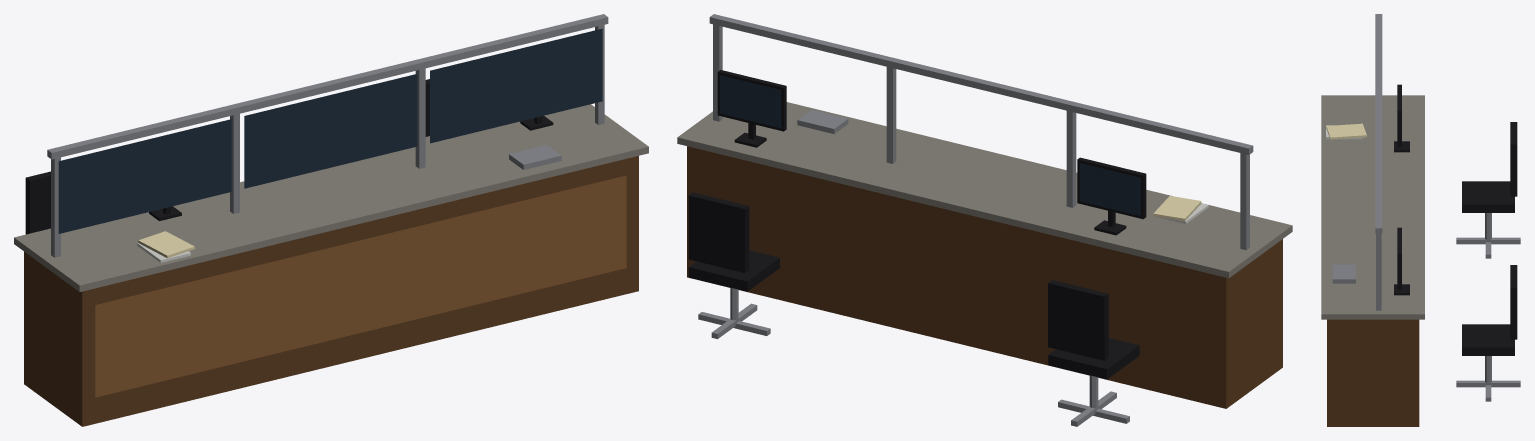
Rendered from prop_bank-counter.e93521d4e890.glb.
3 views of the same model, side by side, from view 1: azimuth 30°, elevation 25°; view 2: azimuth 150°, elevation 25°; view 3: azimuth 270°, elevation 25° (orthographic). The views are drawn at different scales.
Visible parts, largest first — view 1: body; view 2: body; view 3: body.
Part boxes in pixels (x1,y1,x2,y2): body: [14, 14, 648, 426]; body: [677, 14, 1292, 426]; body: [1321, 14, 1520, 426].
Size of the model in its own units: 4.5 by 1.9 by 1.73.
